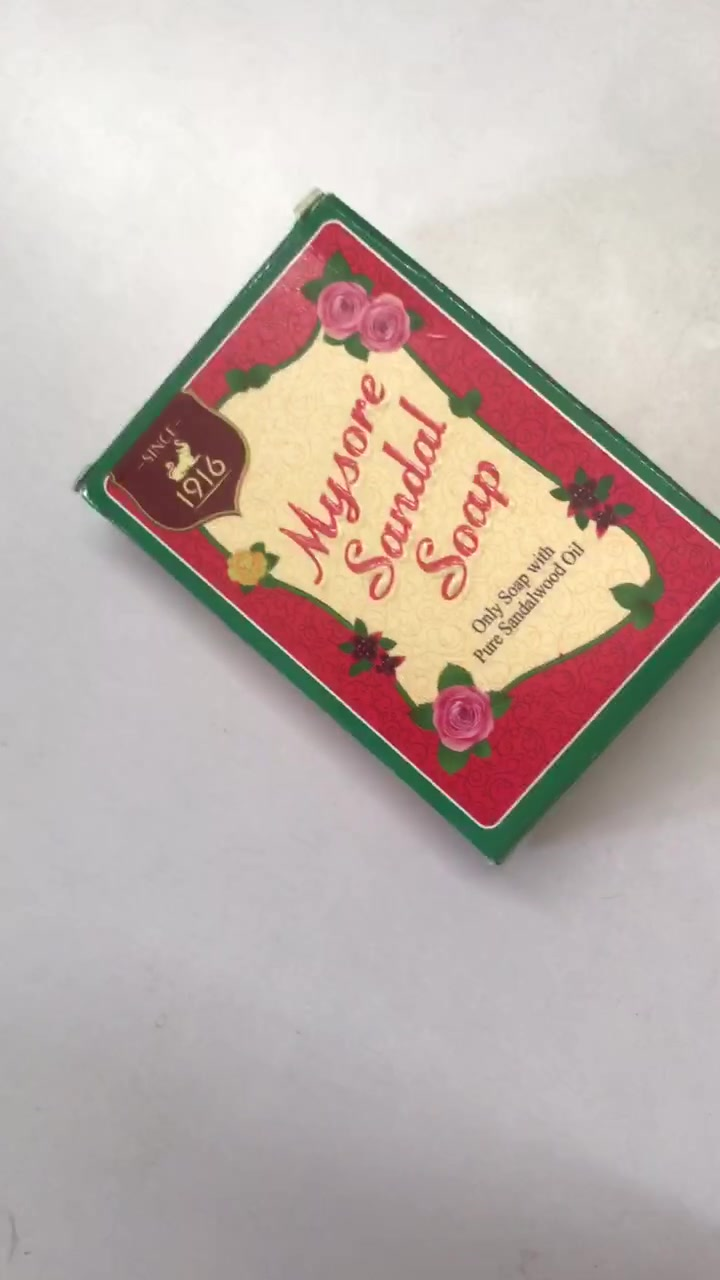mysore sandal soap: (77, 196, 720, 869)
